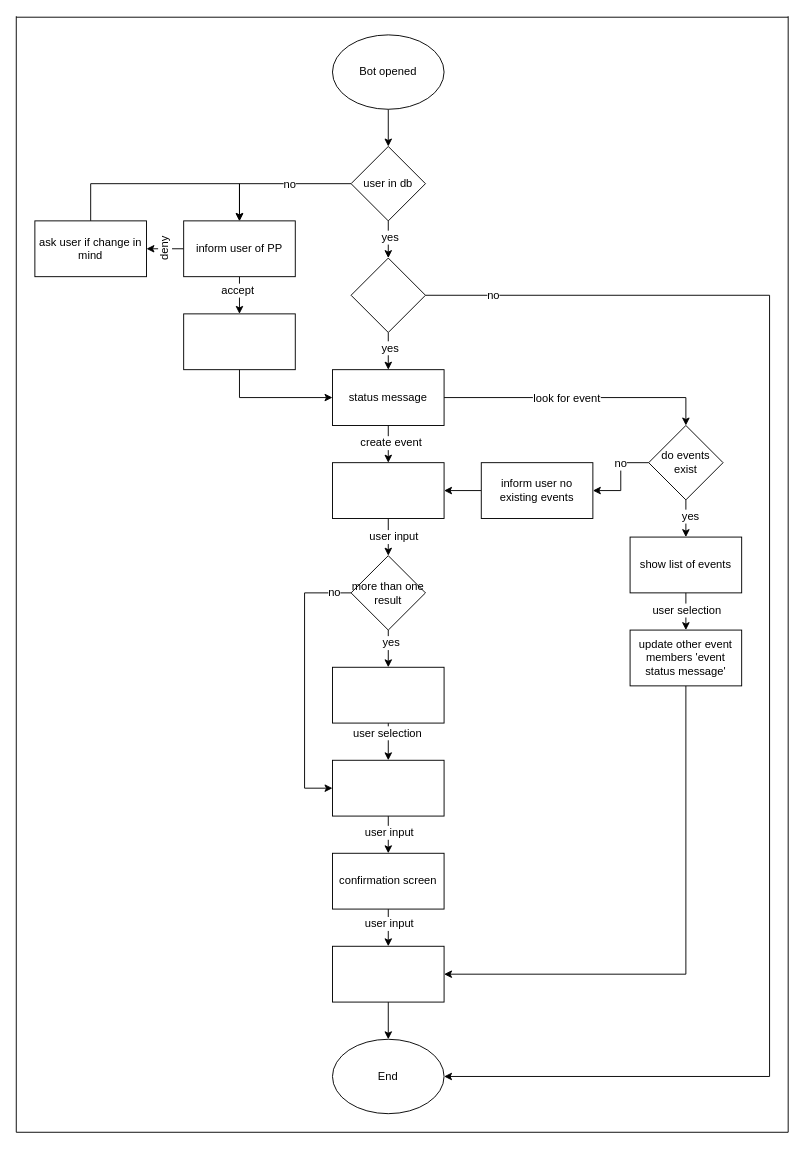
Some shapes in this 805 by 1149 pixel diagram are drawn without their labels. The shapes that lost their labels are listed below. From the top down, each one's centre as x and y in pixels, then its label:
At (x=387, y=294): "first interaction of the day".
At (x=239, y=341): "user preferences (location, interests)".
At (x=388, y=490): "Where?".
At (x=388, y=694): "list results".
At (x=388, y=787): "ask for other information for event".
At (x=388, y=973): "event status message".
